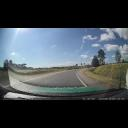speed_limit_40: (87, 65, 90, 68)
